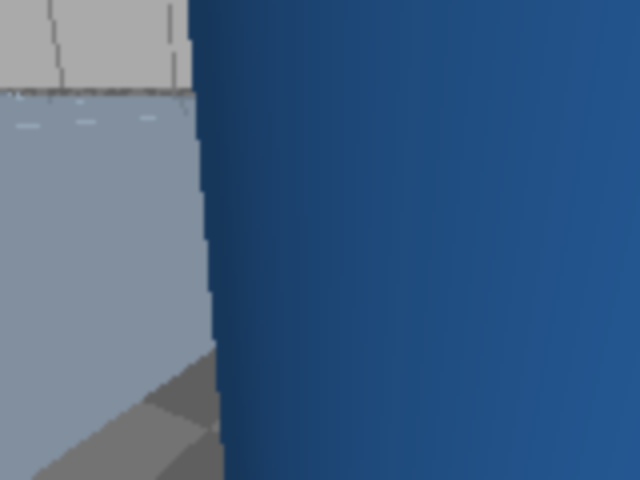puck: (489, 251, 516, 272)
